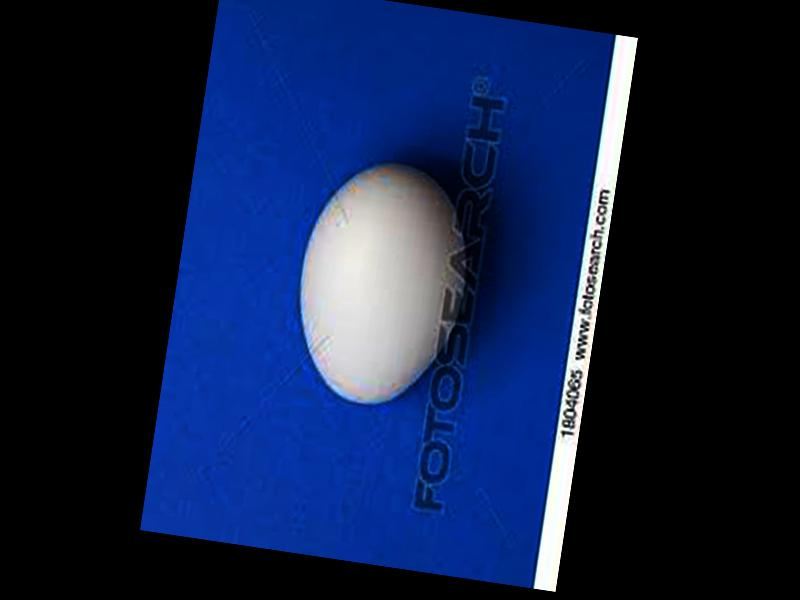Eggs: (284, 152, 485, 416)
